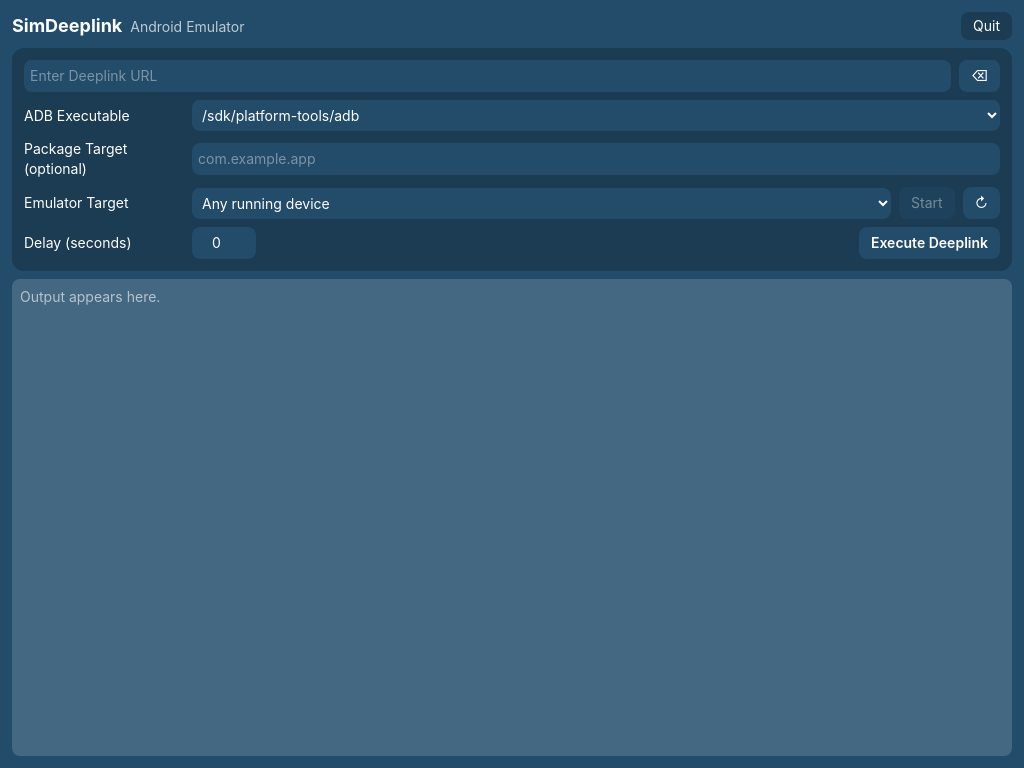
Scenario: deeplink › sends the link with the chosen emulator, package and adb, and shows success
This screenshot has width=1024, height=768.
In the field labelled "Deeplink URL": coordinates (488, 76) [24,60,951,92], type "myapp://a?b=1&c=2"
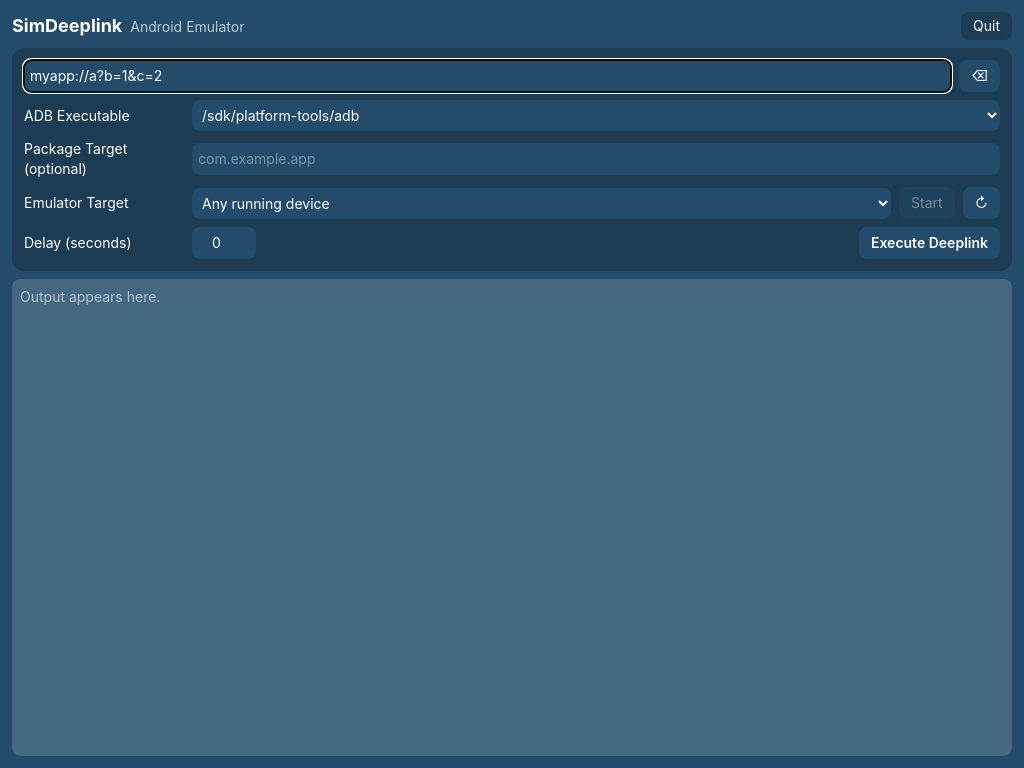
In the field labelled "Package Target": coordinates (596, 159) [192,143,1000,175], type " com.example "
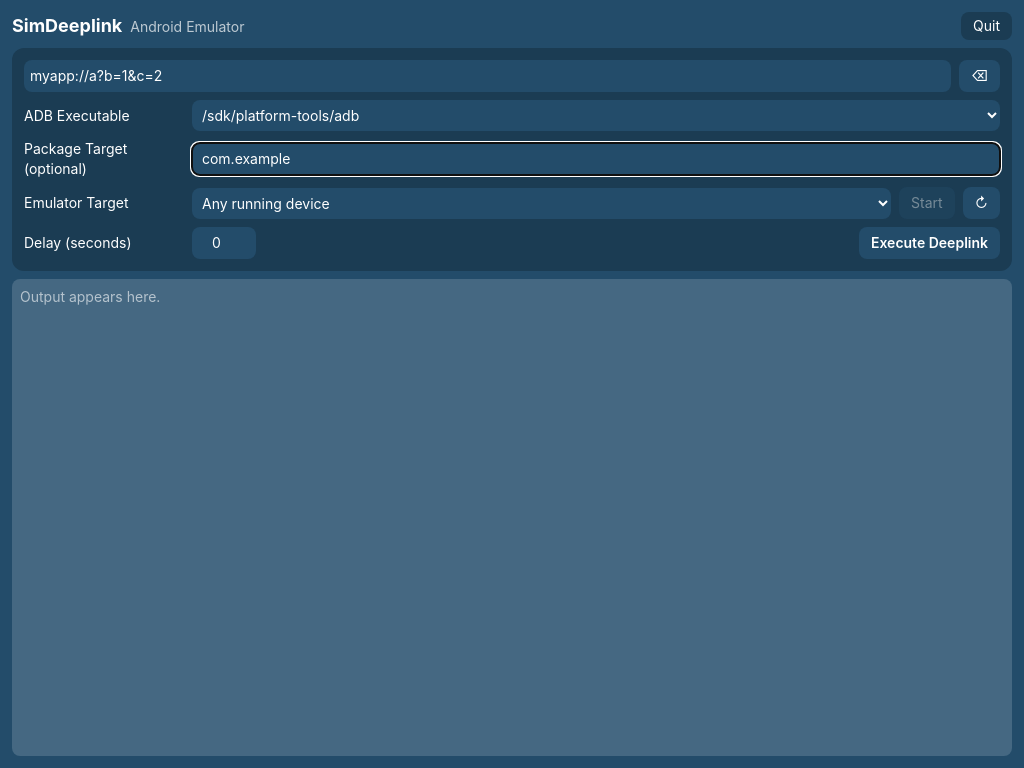
Select "● Pixel 8" in the dropdown named "Device": coordinates (542, 203) [192,188,891,218]
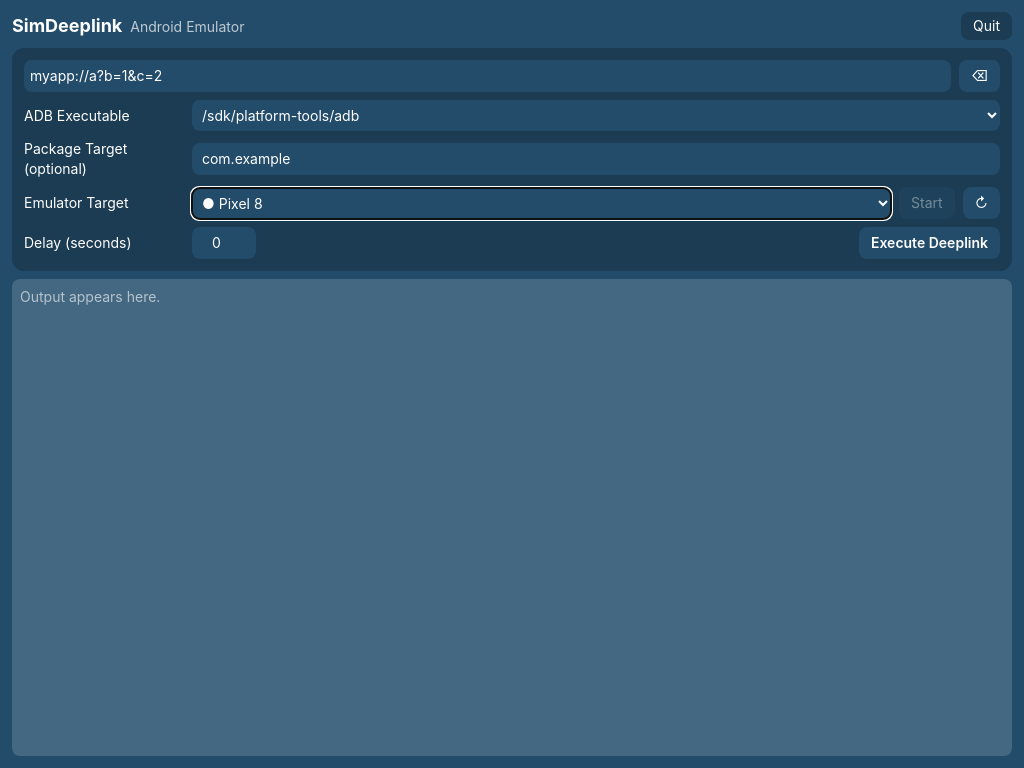
Click the button "Execute Deeplink": coordinates (930, 243) [859,227,1000,259]
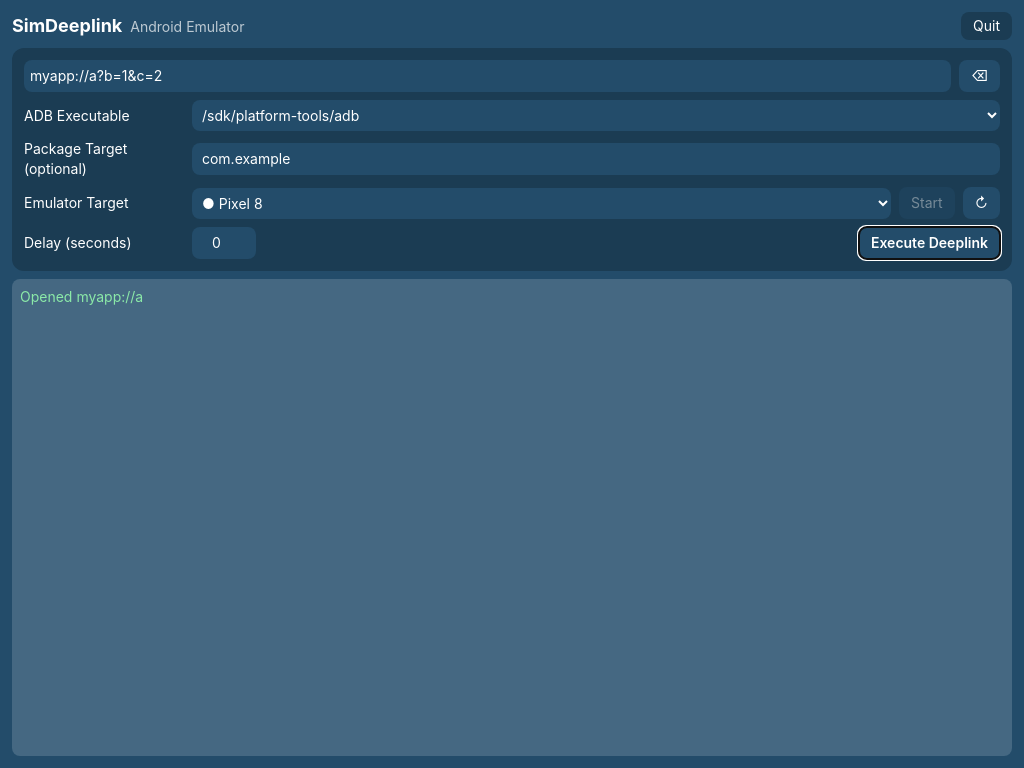
Now the text with test id "output" reads "Opened myapp://a", box [20,288,143,305]
